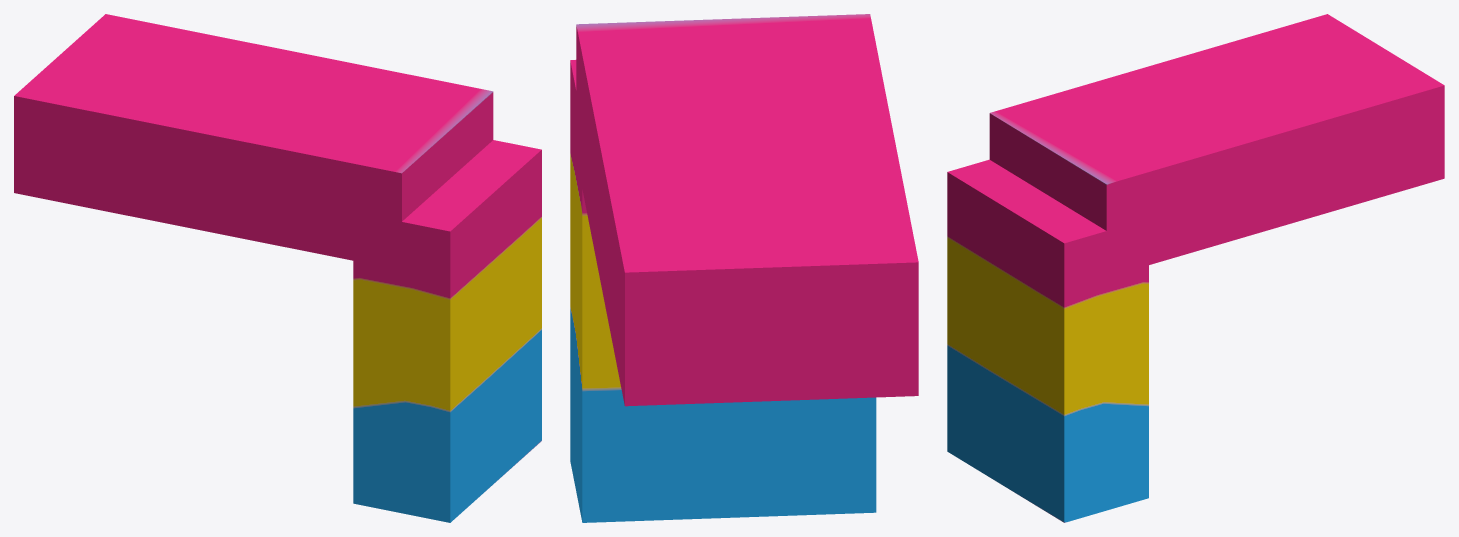
Rendered from Pan Plume.fbx.
The picture shows the model from 3 angles, left to right: view 1: azimuth 30°, elevation 25°; view 2: azimuth 150°, elevation 25°; view 3: azimuth 270°, elevation 25°; orthographic projection. The views are drawn at different scales.
Visible parts, largest first — view 1: Plume; view 2: Plume; view 3: Plume.
Part boxes in pixels (bbox=[...]): Plume: bbox=[14, 14, 541, 522]; Plume: bbox=[570, 14, 918, 522]; Plume: bbox=[947, 14, 1444, 522].
Bounding box in the file's own units: 42.07 × 35 × 48.38.
Materials: 1 (1 with a texture image).
